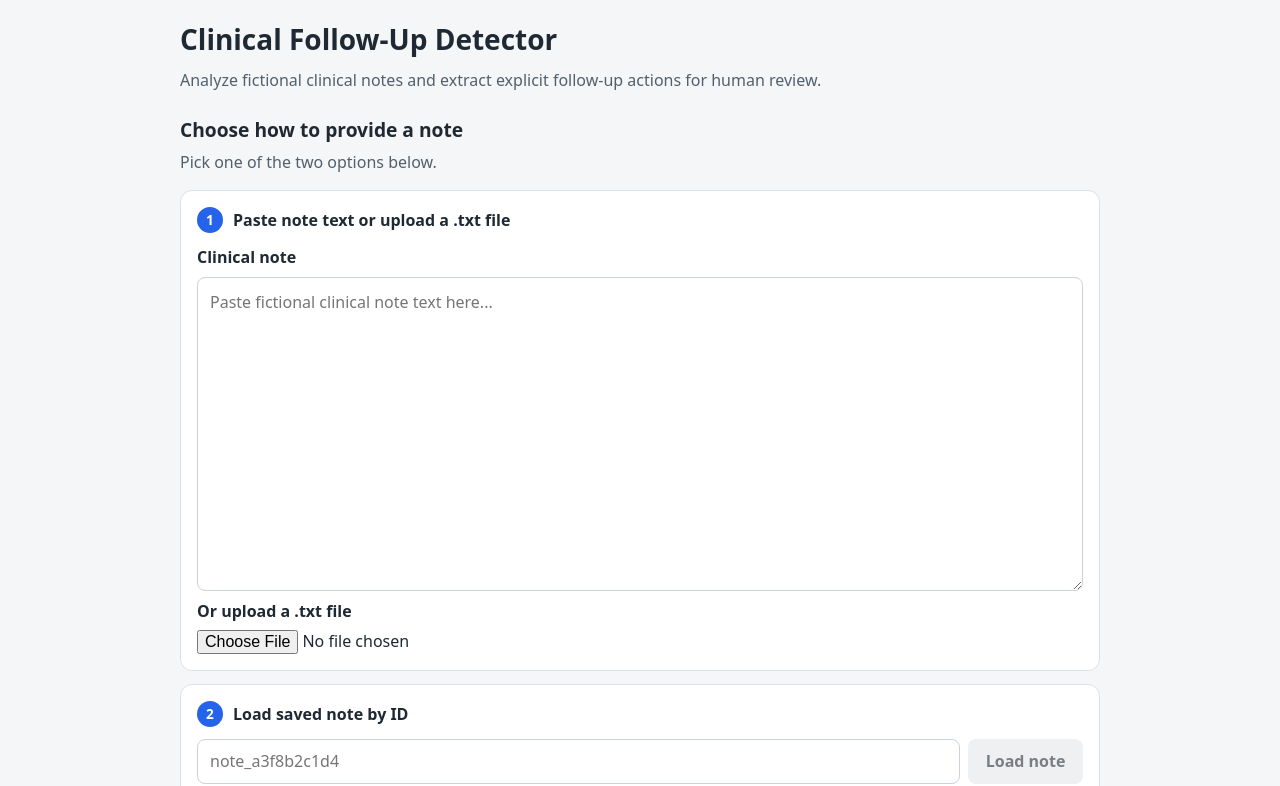
it: action workflow › confirm updates rendered action to confirmed
The width and height of the screenshot is (1280, 786).
Type "The patient should repeat a CBC within seven days." into the text box labelled "Clinical note".
click(640, 434); type("The patient should repeat a CBC within seven days.")  # box [197,277,1083,591]
(page scrolled)
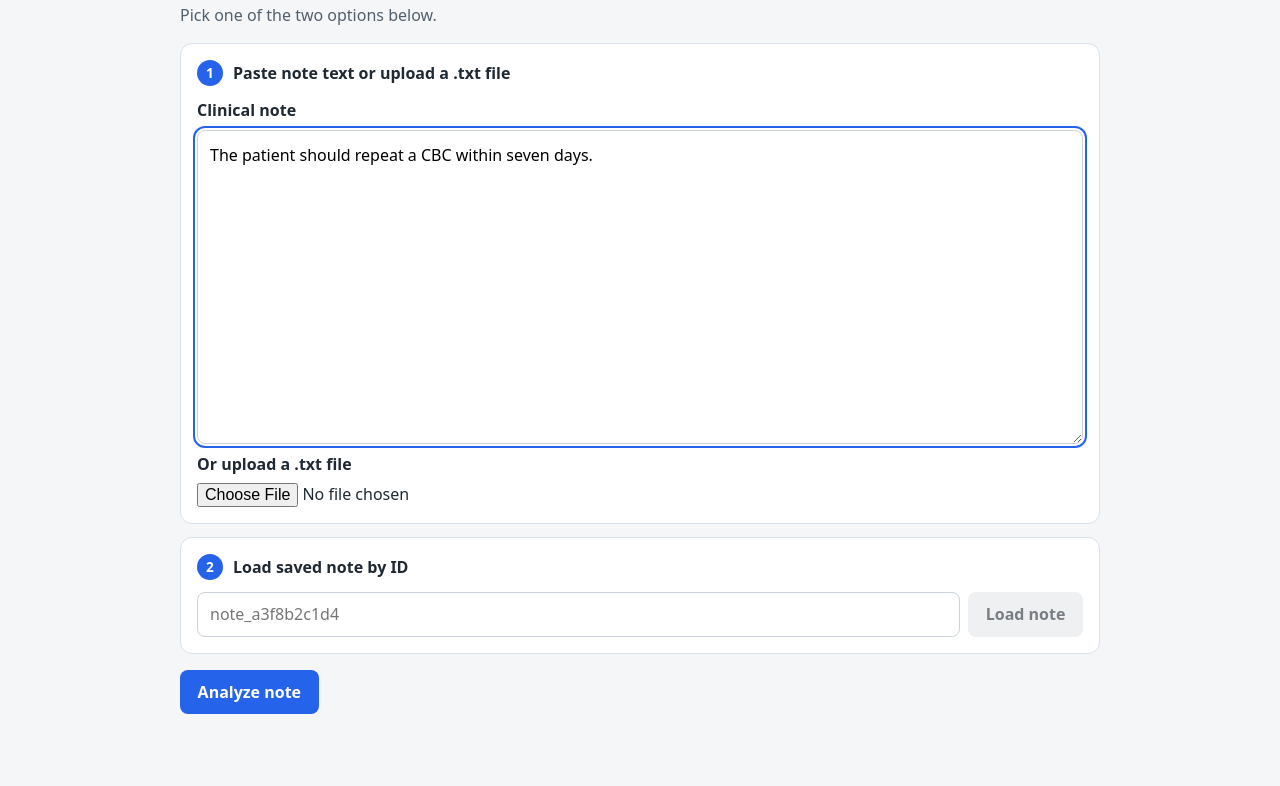
Click the button "Analyze note".
click(249, 692)  # box [180,670,319,714]
(page scrolled)
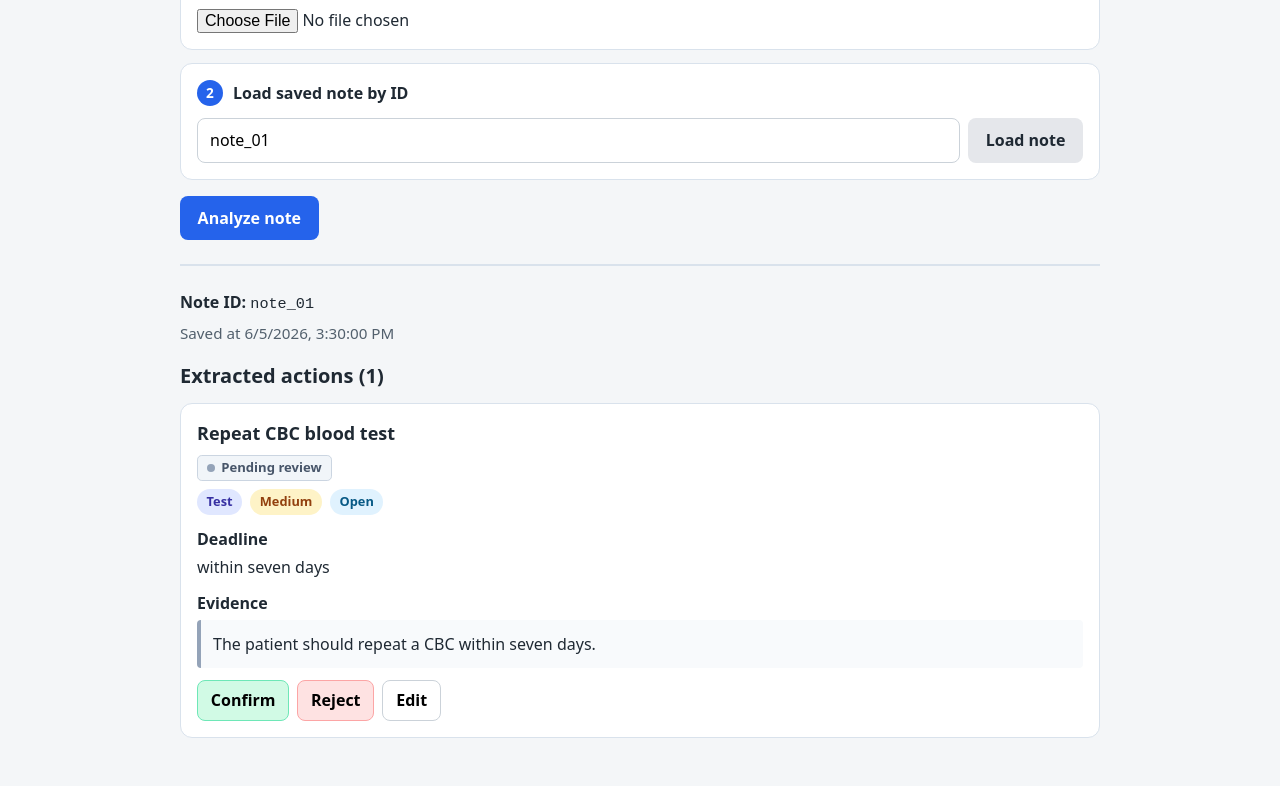
Expected: the heading "Repeat CBC blood test" is shown, [197,420,395,446]
Click the button with aria-label "Confirm action: Repeat CBC blood test".
click(243, 700)  # box [197,680,289,720]
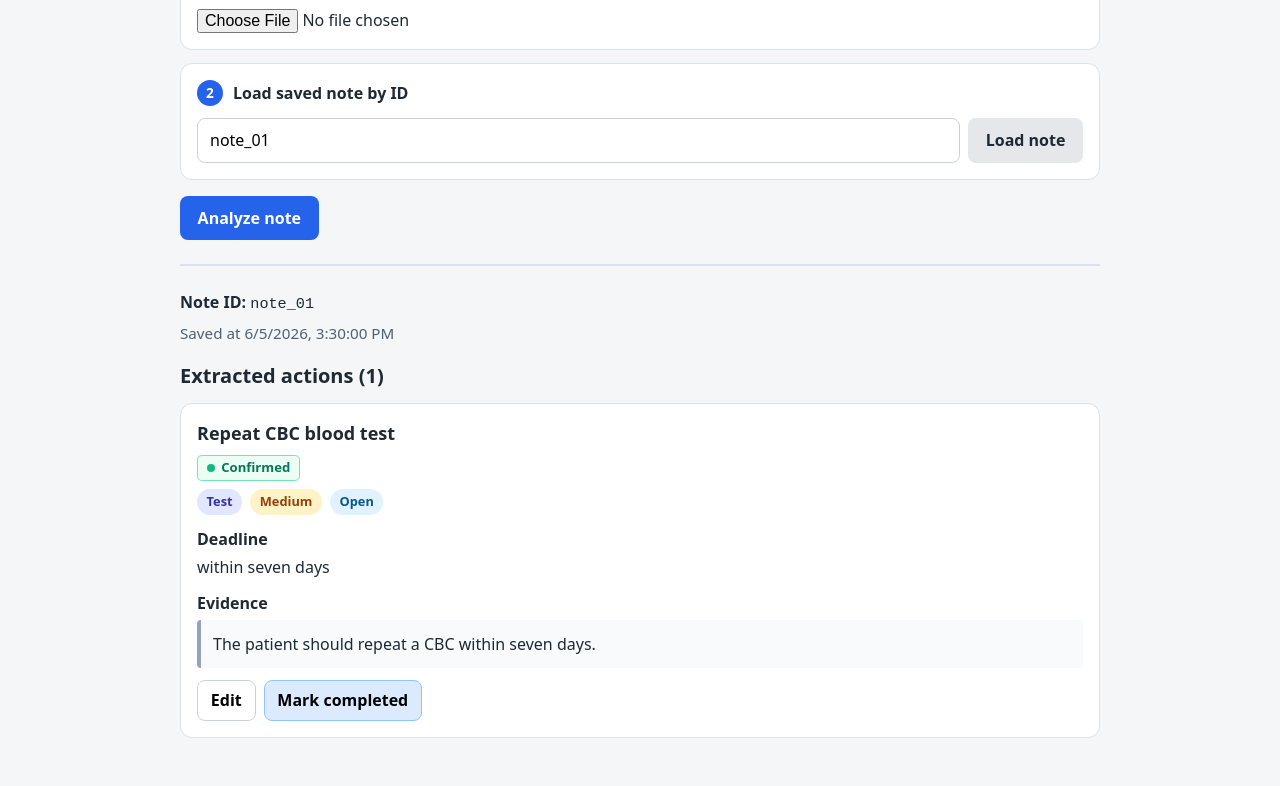
Expected: the text "Confirmed" is shown, [197,454,300,481]
